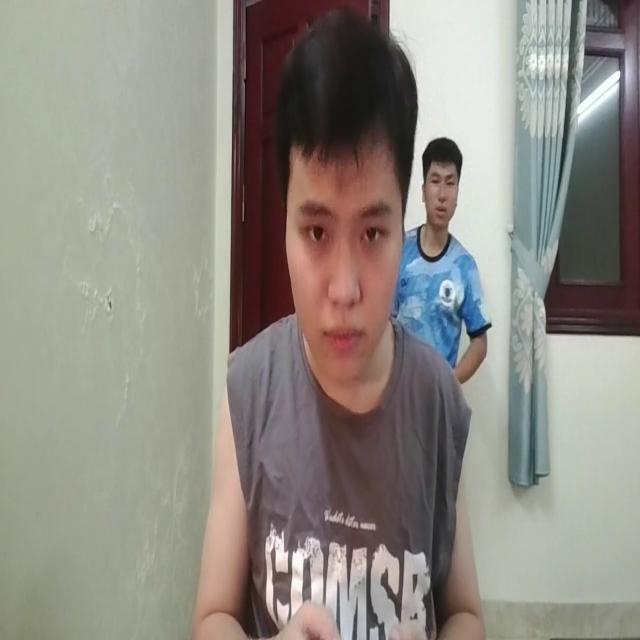extra_person: (407, 122, 492, 376)
student: (188, 13, 488, 640)
